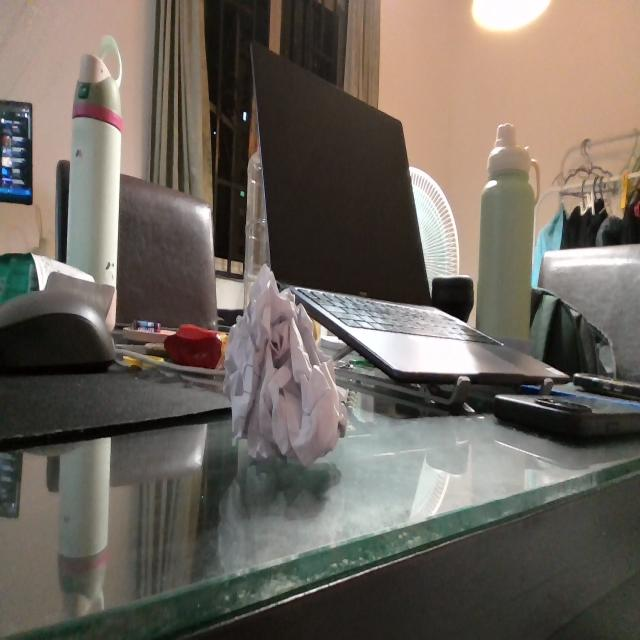crumpled_paper: (222, 260, 350, 474)
